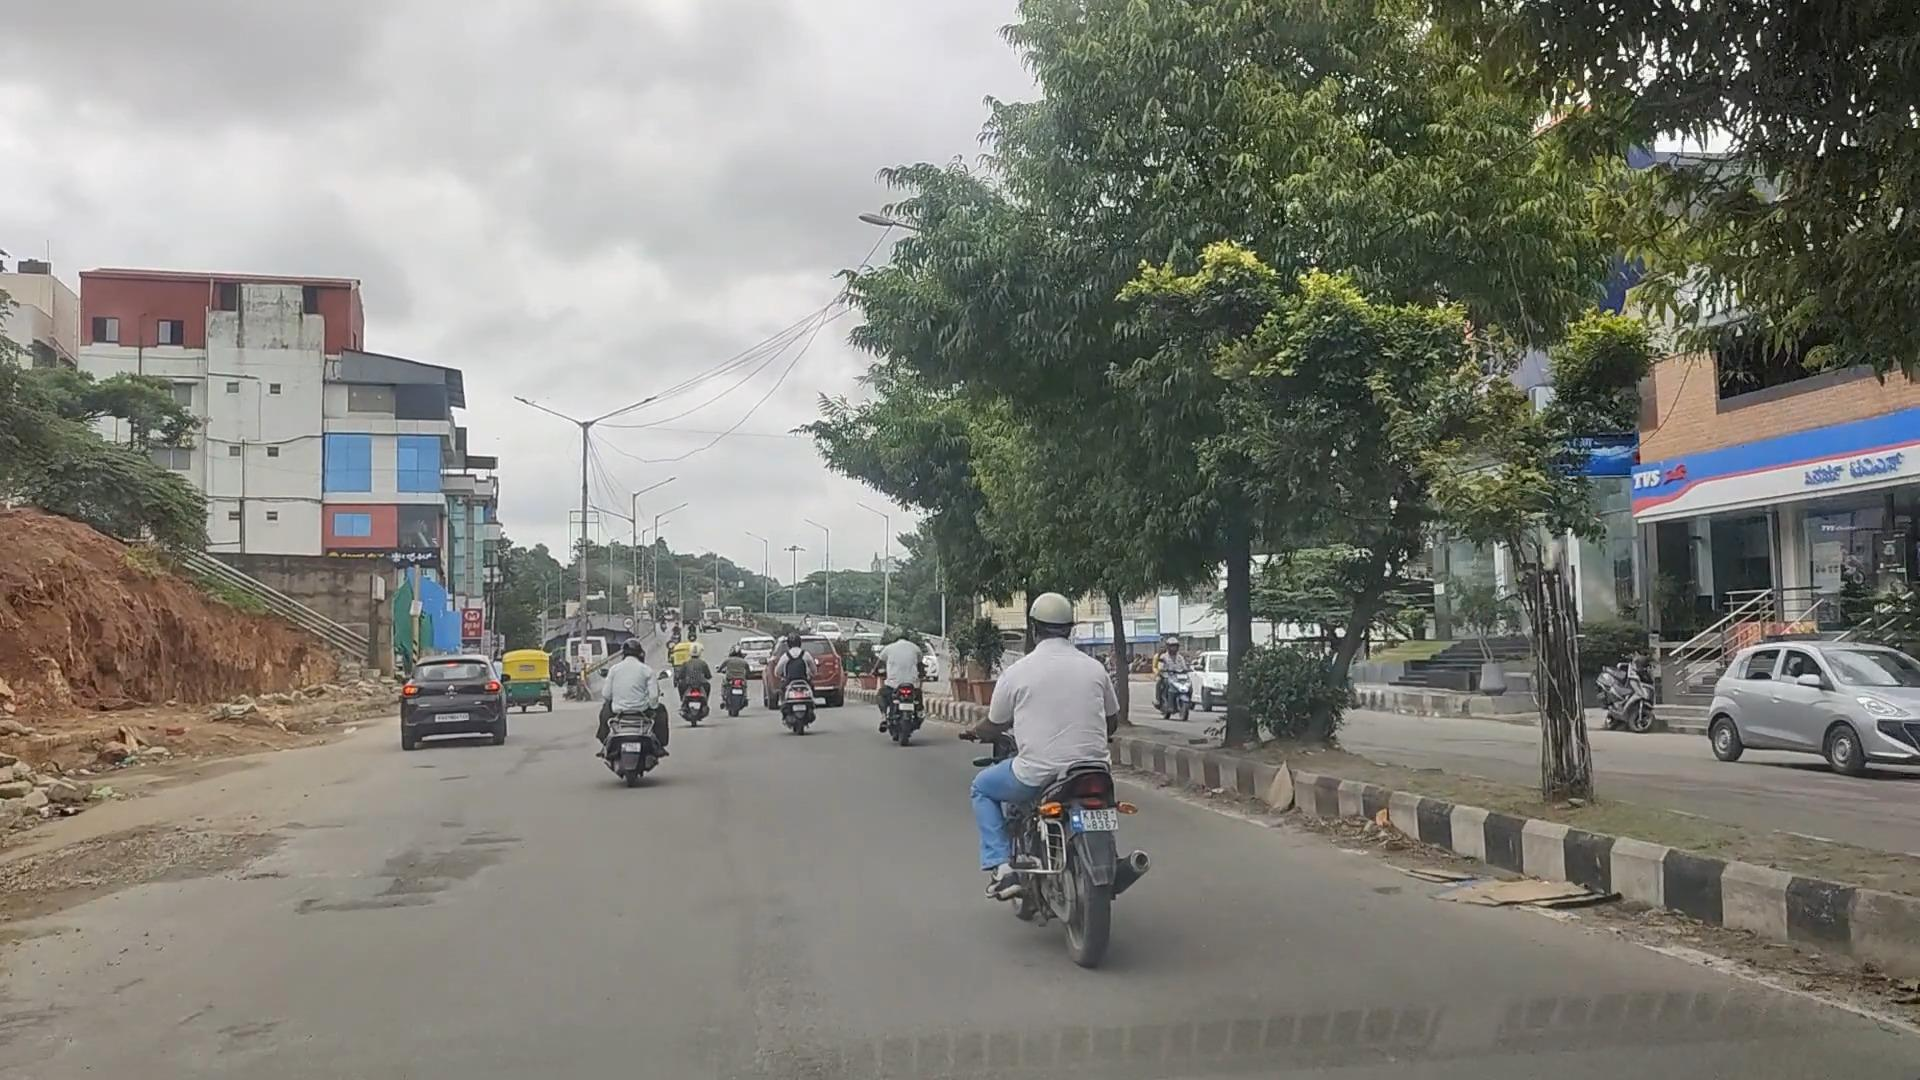LMV: (967, 587, 1137, 942), (393, 657, 505, 741), (870, 626, 943, 749), (596, 650, 653, 782), (787, 644, 818, 733)
RoadDamages: (0, 807, 286, 940), (299, 814, 510, 951)
